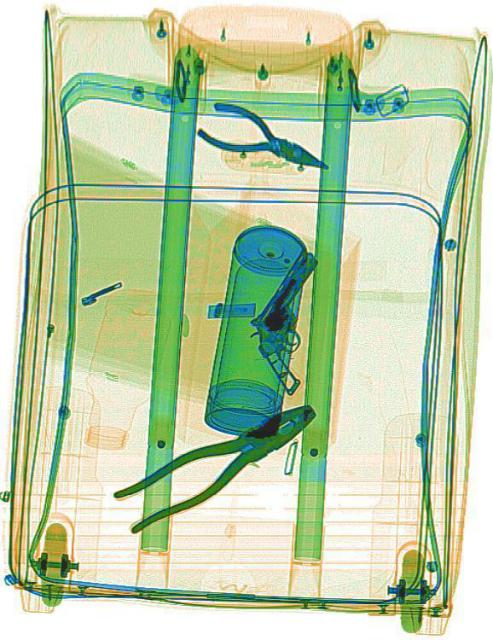Gun: (236, 240, 353, 398)
Pliers: (110, 386, 323, 540), (193, 91, 334, 187)
